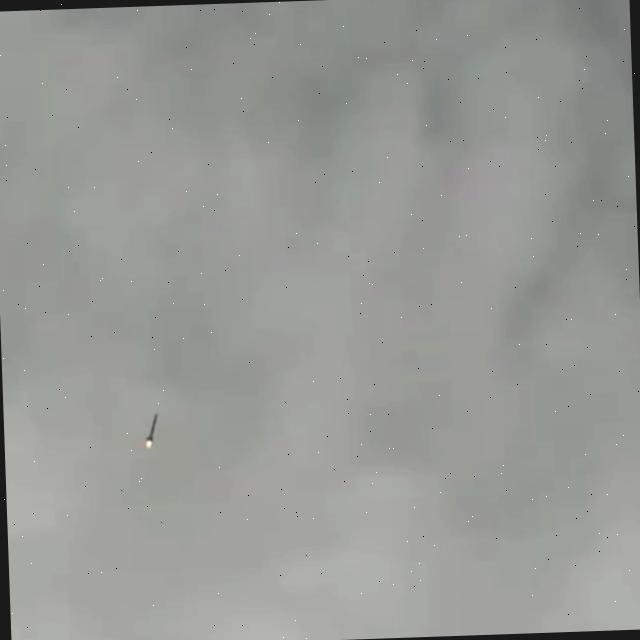rocket: (135, 415, 159, 451)
